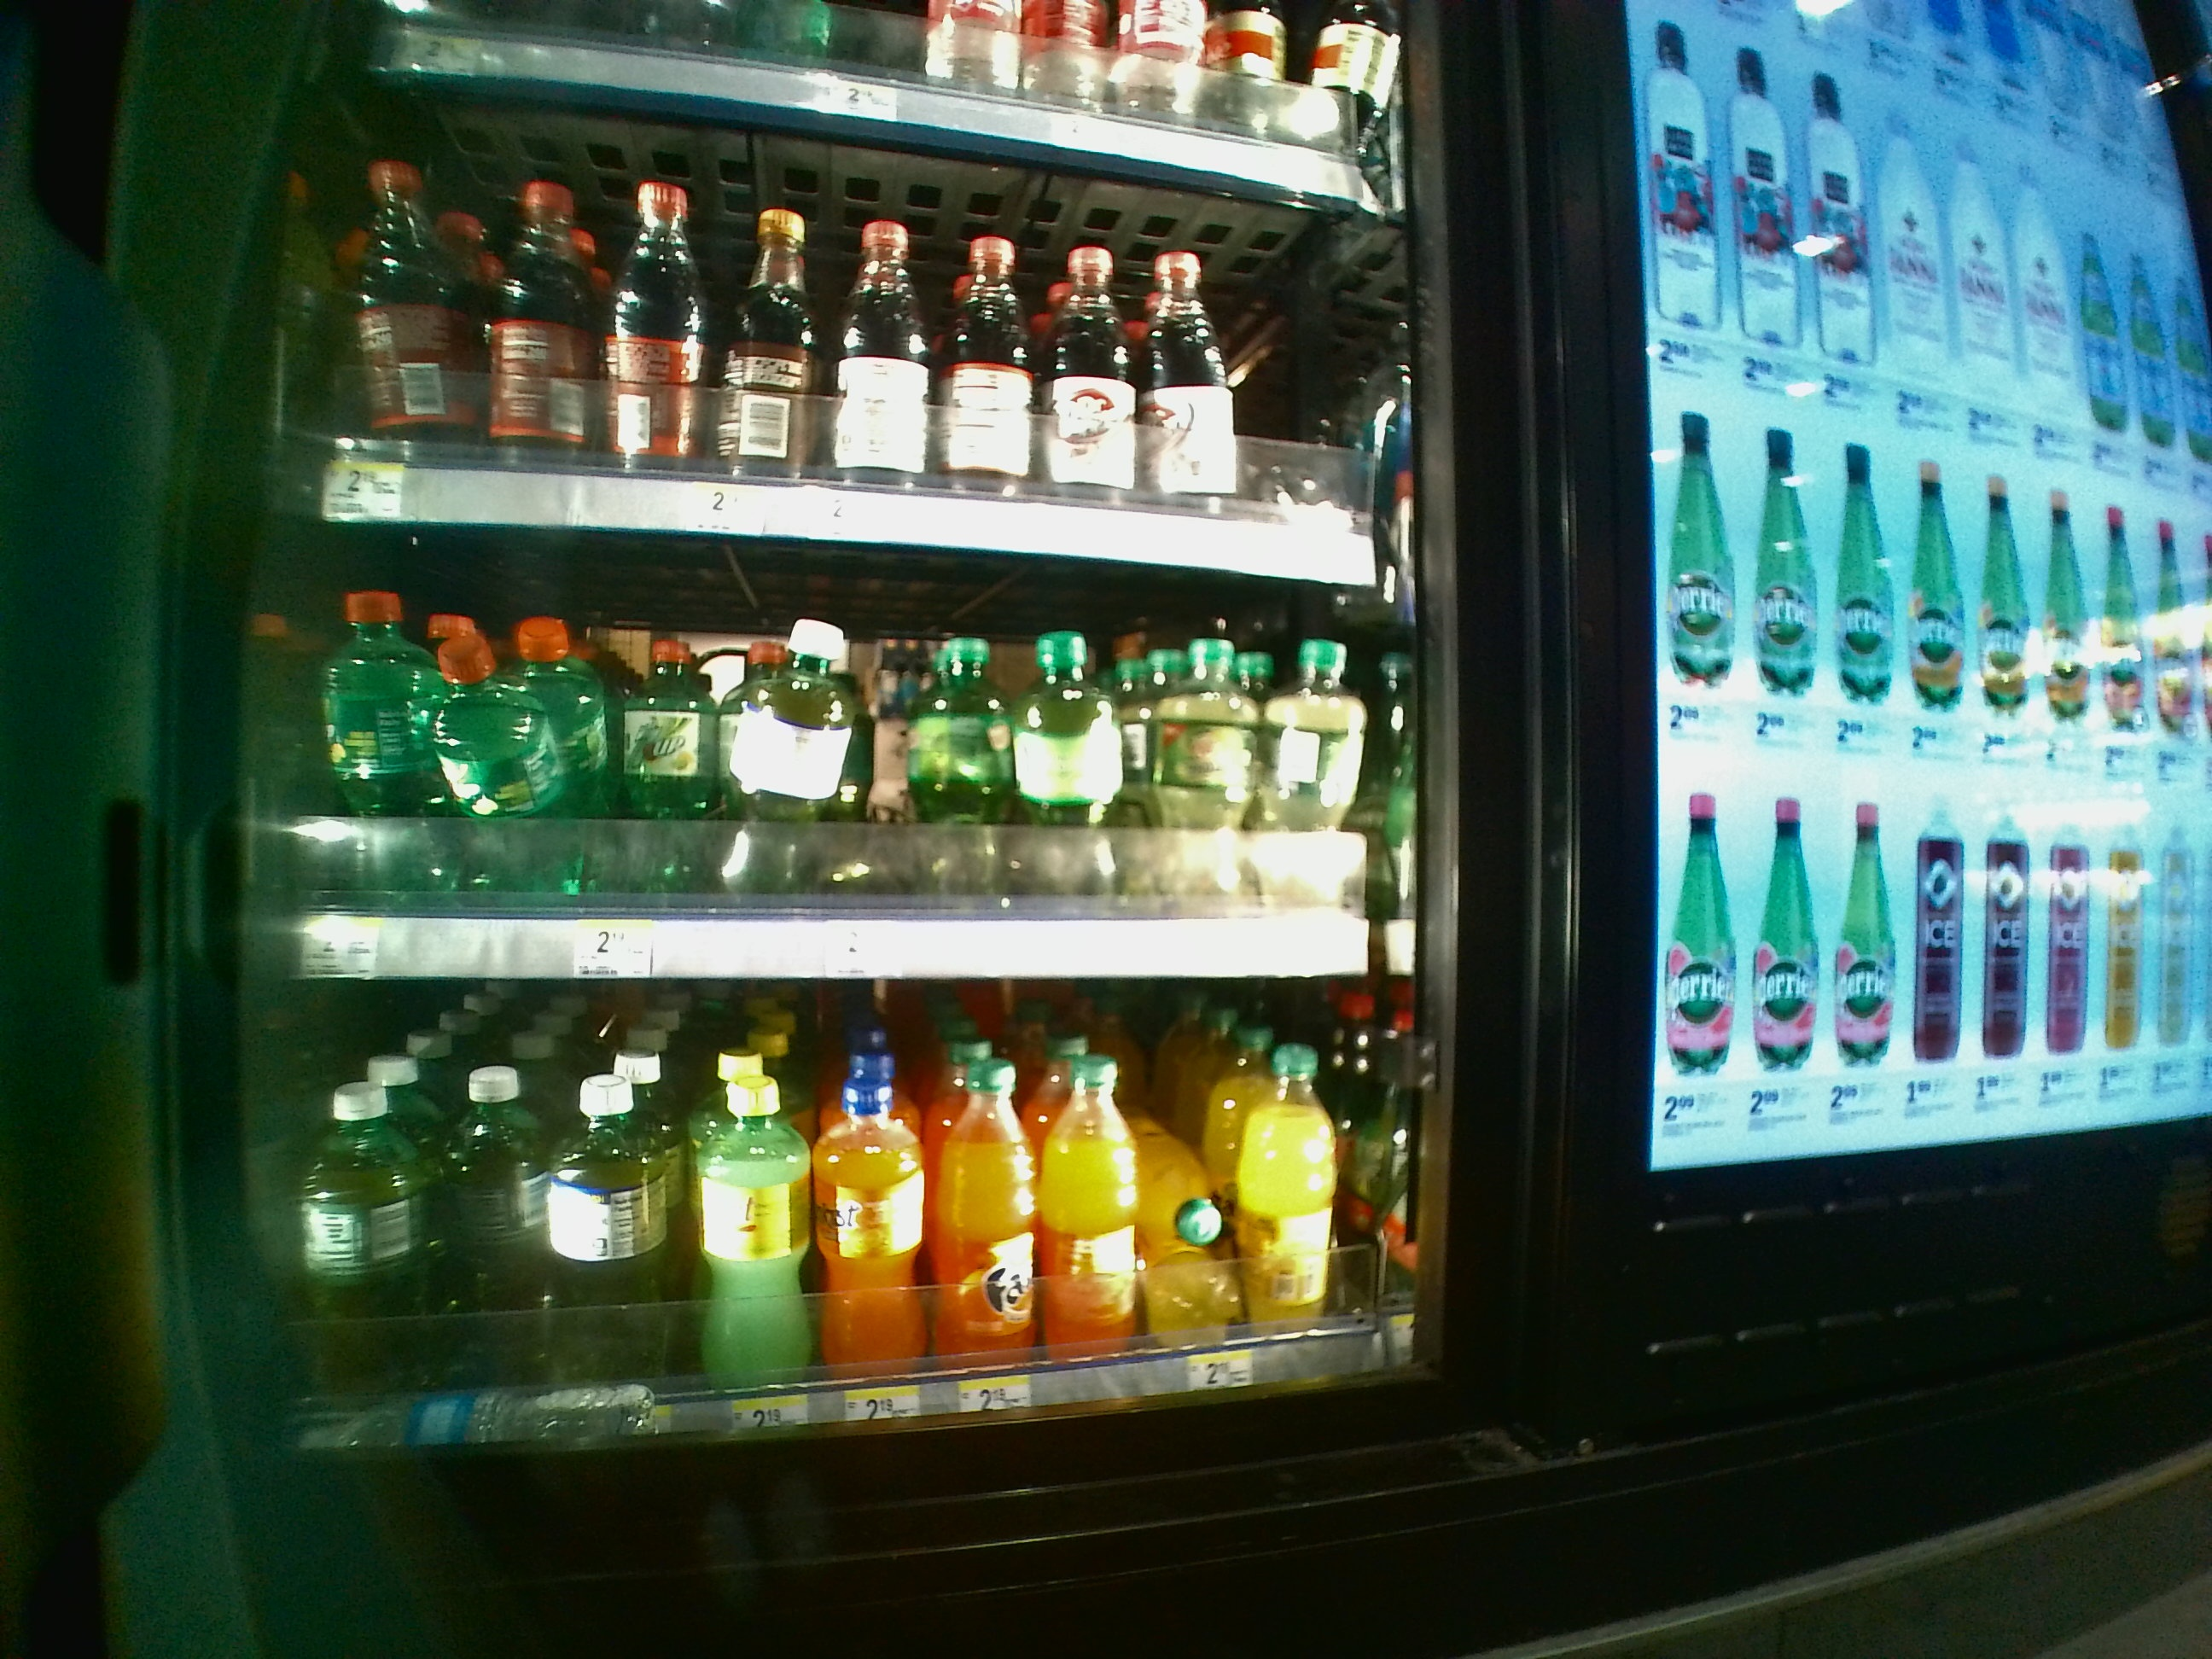shelf: (291, 532, 1411, 983), (289, 997, 1420, 1427)
